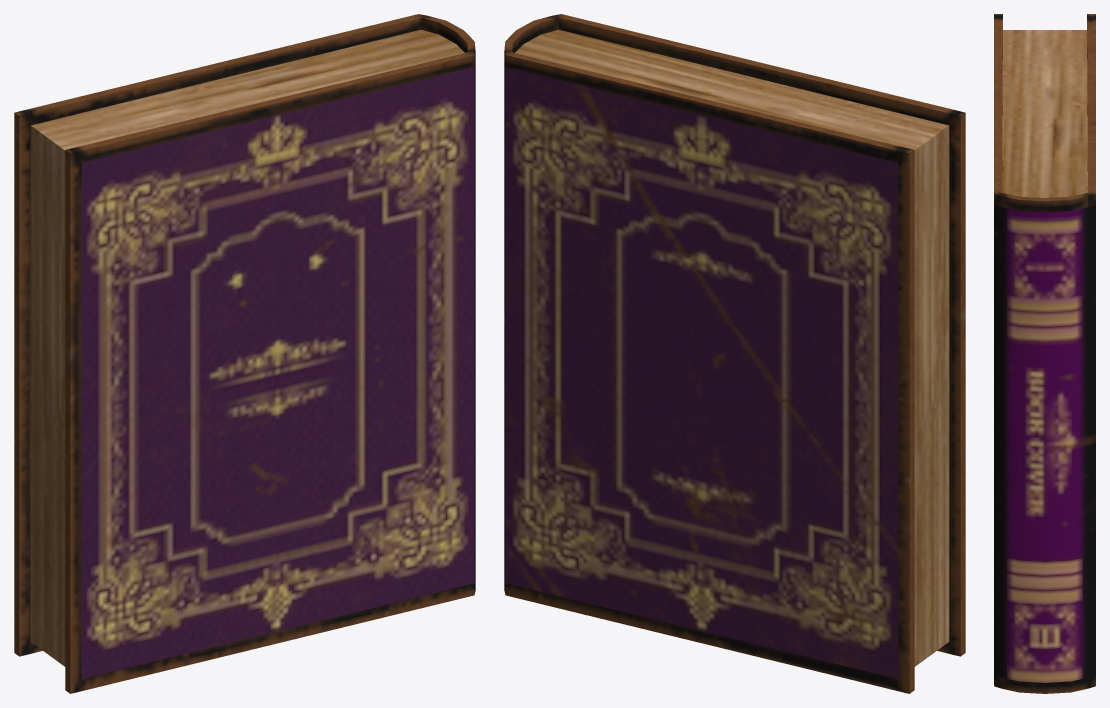
File: Prop_Book_x3.fbx
The picture shows the model from 3 angles, left to right: view 1: azimuth 30°, elevation 25°; view 2: azimuth 150°, elevation 25°; view 3: azimuth 270°, elevation 25°; orthographic projection. The views are drawn at different scales.
Parts seen in each view (by area): view 1: Prop_Book_x3; view 2: Prop_Book_x3; view 3: Prop_Book_x3.
Boxes of the visible parts, x1,y1,x2,y2 form: Prop_Book_x3: [14, 14, 475, 693]; Prop_Book_x3: [504, 14, 965, 693]; Prop_Book_x3: [994, 14, 1095, 693].
Bounding box in the file's own units: 11.46 × 14.04 × 2.64.
